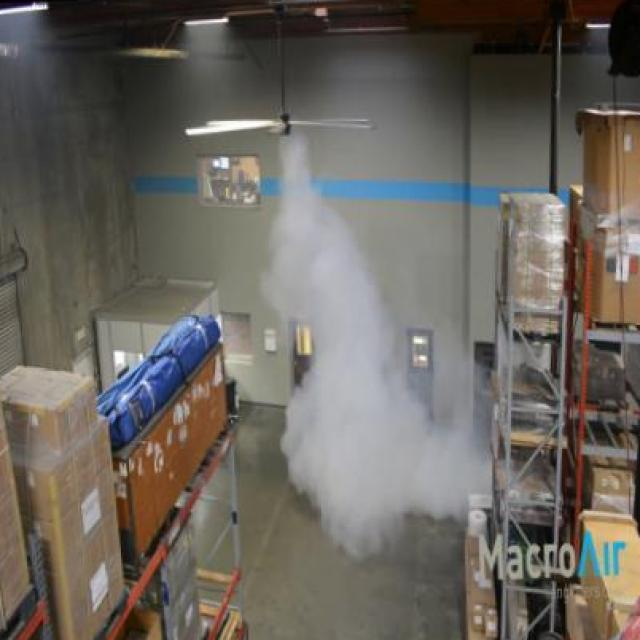fire: (256, 134, 465, 562)
